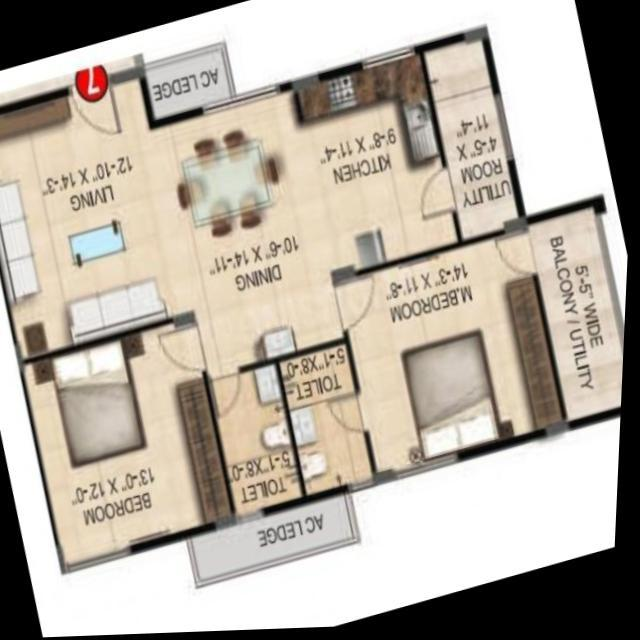Balcony-Sitout: (524, 194, 629, 435)
Bedroom: (19, 313, 244, 577)
Bedroom with Toilet: (277, 224, 568, 505)
Enterance-Foyer: (165, 117, 293, 249), (61, 69, 130, 148)
Kitchen: (287, 45, 469, 291)
Living: (0, 54, 200, 369)
Toilet: (273, 337, 387, 510), (207, 355, 313, 525)
Utility: (414, 23, 533, 252)
